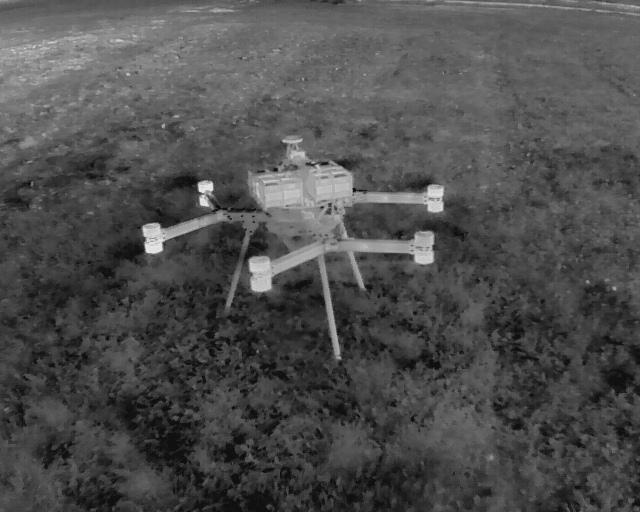drone: (130, 113, 449, 363)
